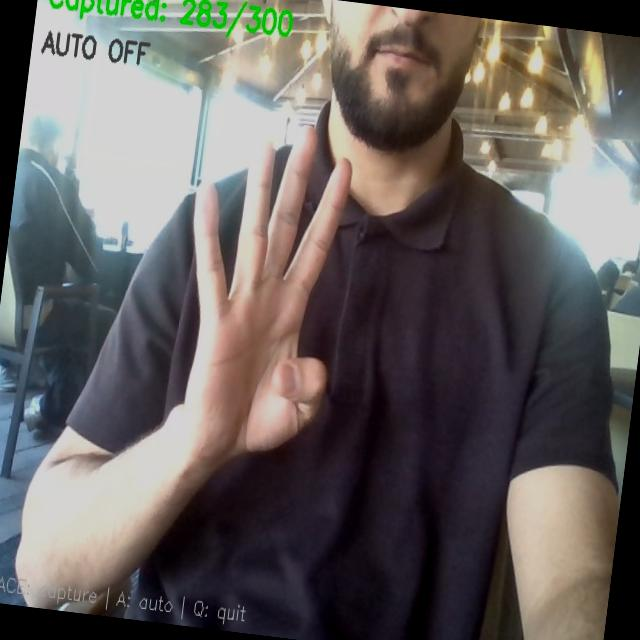Hand: (183, 129, 351, 464)
